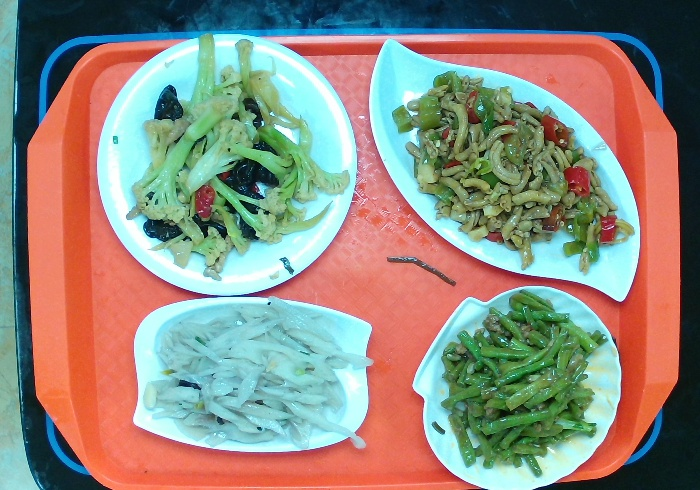RJxy-Bei_Ke_Wan: (409, 281, 625, 490)
RJxy-Jian_Jiao_Fang_Die: (130, 295, 375, 453)
RJxy-Jian_Jiao_Pan: (366, 38, 642, 304)
RJxy-Yuan_Pan: (95, 32, 356, 300)
